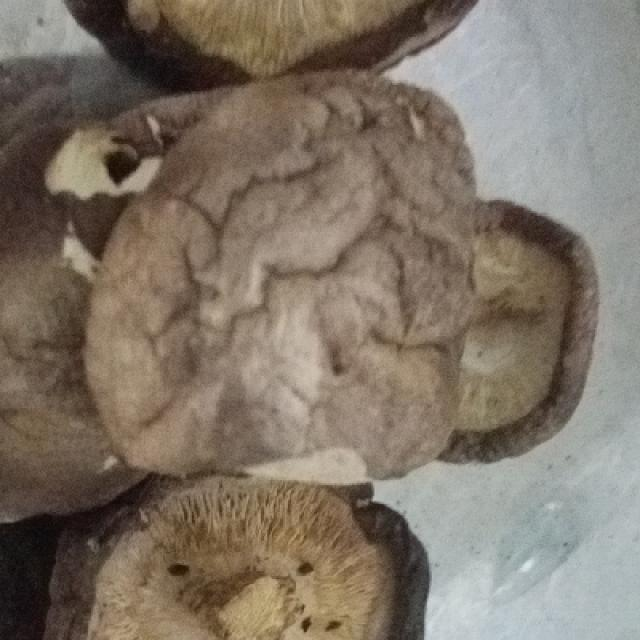Lentinus edodes: (84, 74, 481, 480), (51, 483, 430, 640), (430, 199, 600, 462)
